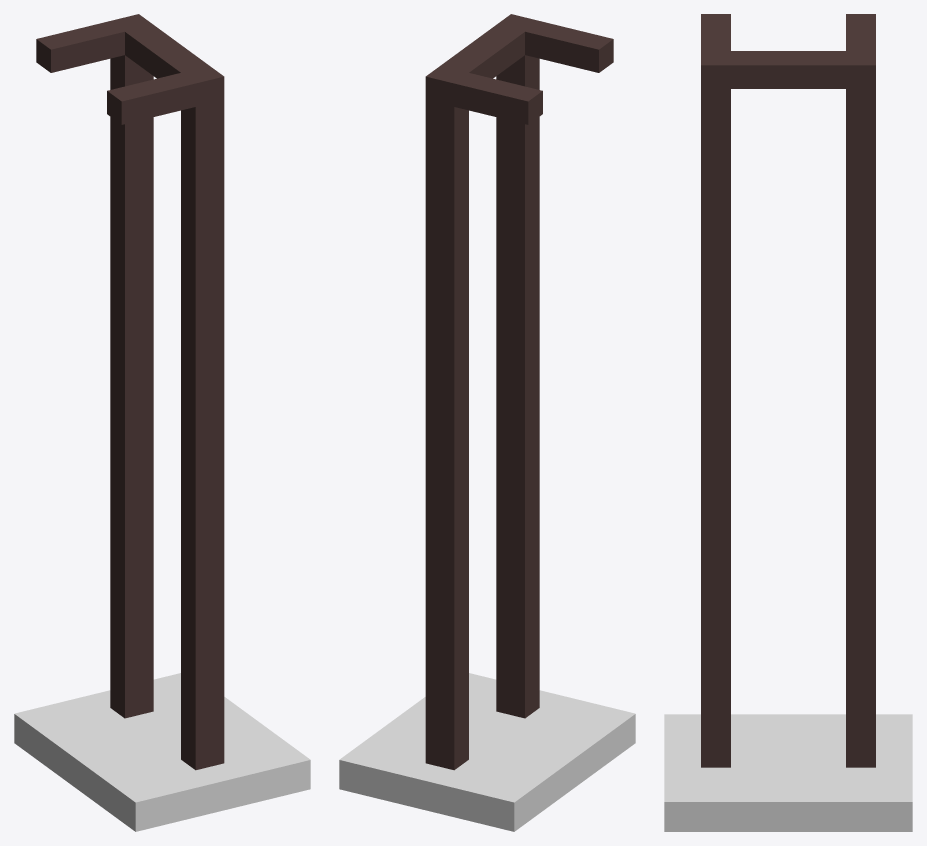
Rendered from SwordHolder.fbx.
3 views of the same model, side by side, from view 1: azimuth 30°, elevation 25°; view 2: azimuth 150°, elevation 25°; view 3: azimuth 270°, elevation 25° (orthographic). The views are drawn at different scales.
Visible parts, largest first — view 1: SwordHolder; view 2: SwordHolder; view 3: SwordHolder.
Boxes of the visible parts, left/top/right/bottom form: SwordHolder: left=14, top=14, right=310, bottom=831; SwordHolder: left=339, top=14, right=635, bottom=831; SwordHolder: left=664, top=14, right=912, bottom=831.
Size of the model in its own units: 0.2489 by 0.9723 by 0.2989.
